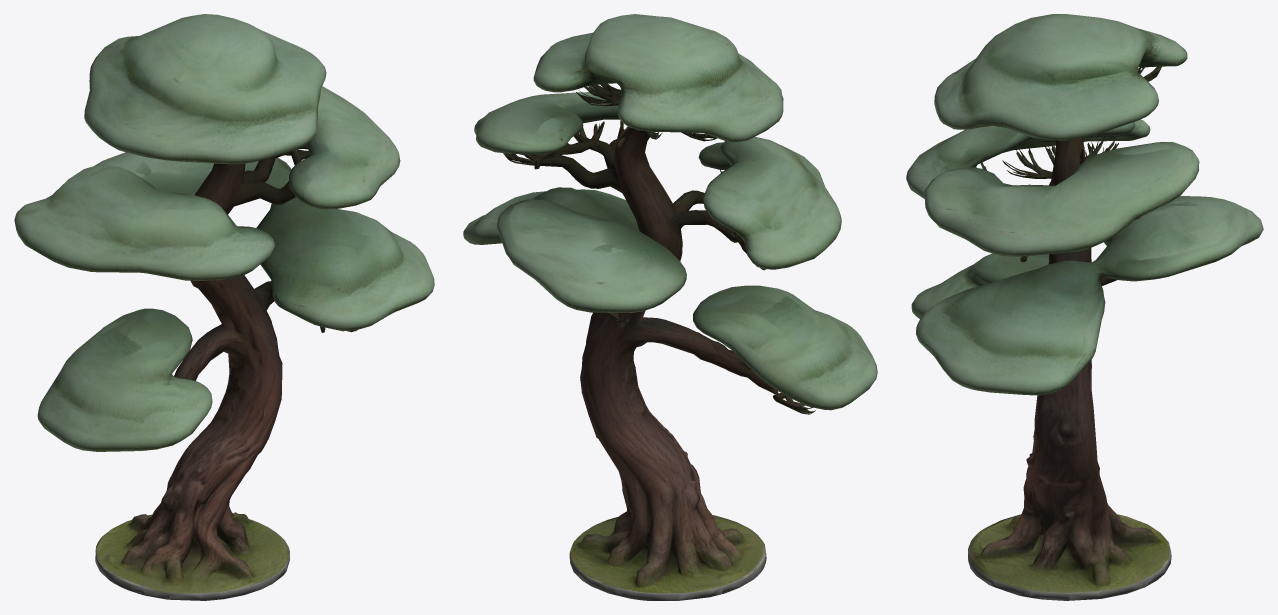
The model's file is pineTreeA.glb.
3 views of the same model, side by side, from view 1: azimuth 30°, elevation 25°; view 2: azimuth 150°, elevation 25°; view 3: azimuth 270°, elevation 25° (orthographic). The views are drawn at different scales.
Visible parts, largest first — view 1: node_0; view 2: node_0; view 3: node_0.
Boxes of the visible parts, x1=… form: node_0: x1=14, y1=14, x2=434, y2=600; node_0: x1=463, y1=14, x2=877, y2=600; node_0: x1=906, y1=14, x2=1263, y2=600.
Size of the model in its own units: 2.11 by 2.8 by 1.67.
Materials: 1 (1 with a texture image).
